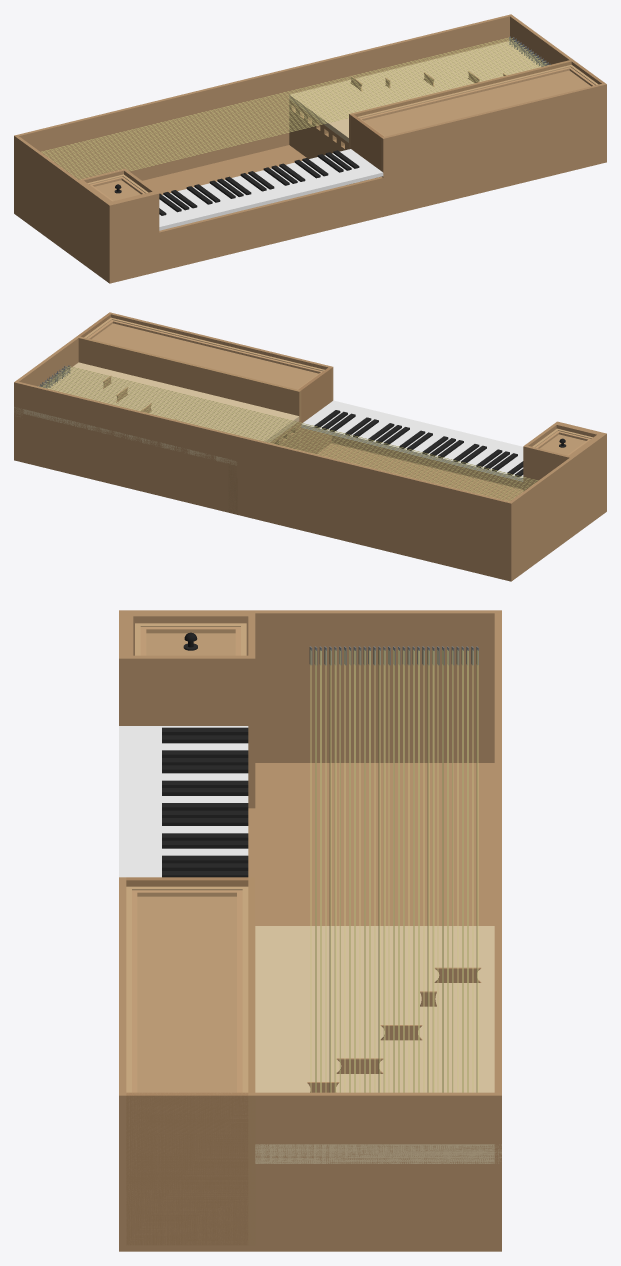
File: strings_and_bridges.glb
3 renders of one model, top to bottom at view 1: azimuth 30°, elevation 25°; view 2: azimuth 150°, elevation 25°; view 3: azimuth 270°, elevation 25°, orthographic. The views are drawn at different scales.
Size of the model in its own units: 1.44 by 0.2204 by 0.4812.
